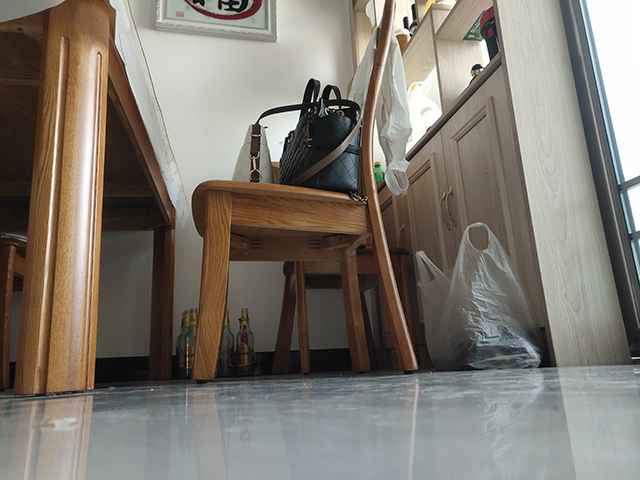cabinet: (385, 58, 581, 368)
stool: (190, 1, 420, 385)
table: (1, 1, 191, 399)
